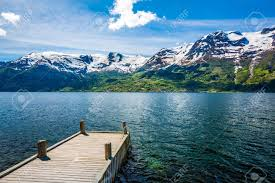mountain: (5, 33, 275, 95)
sea: (3, 91, 272, 178)
sky: (1, 2, 273, 50)
